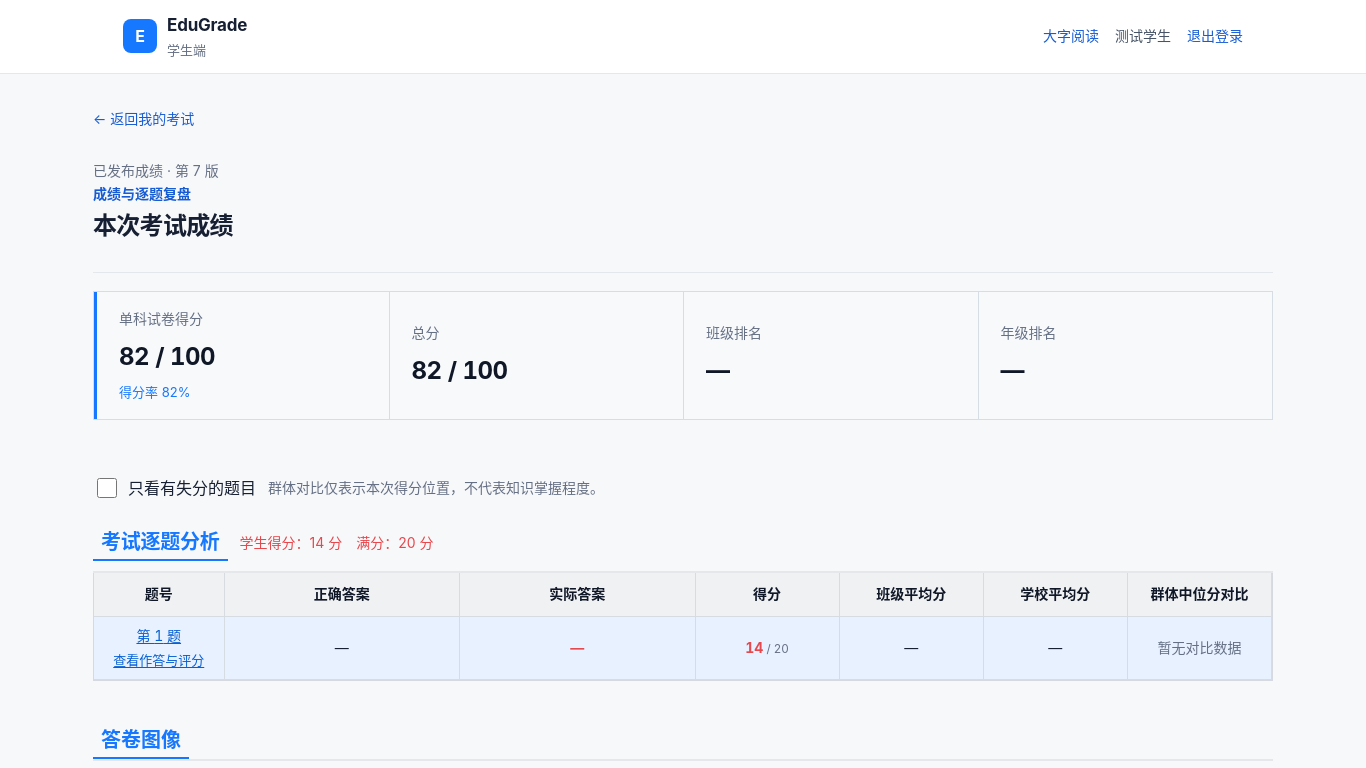
Test: Student Portal released-score boundaries › does not offer a duplicate appeal for the same release and question
expect the element labelled "总分" is shown: met, box [93,292,1273,420]
Click the button with aria-label "14 / 20 分": (159, 648) [104,623,214,673]
(page scrolled)
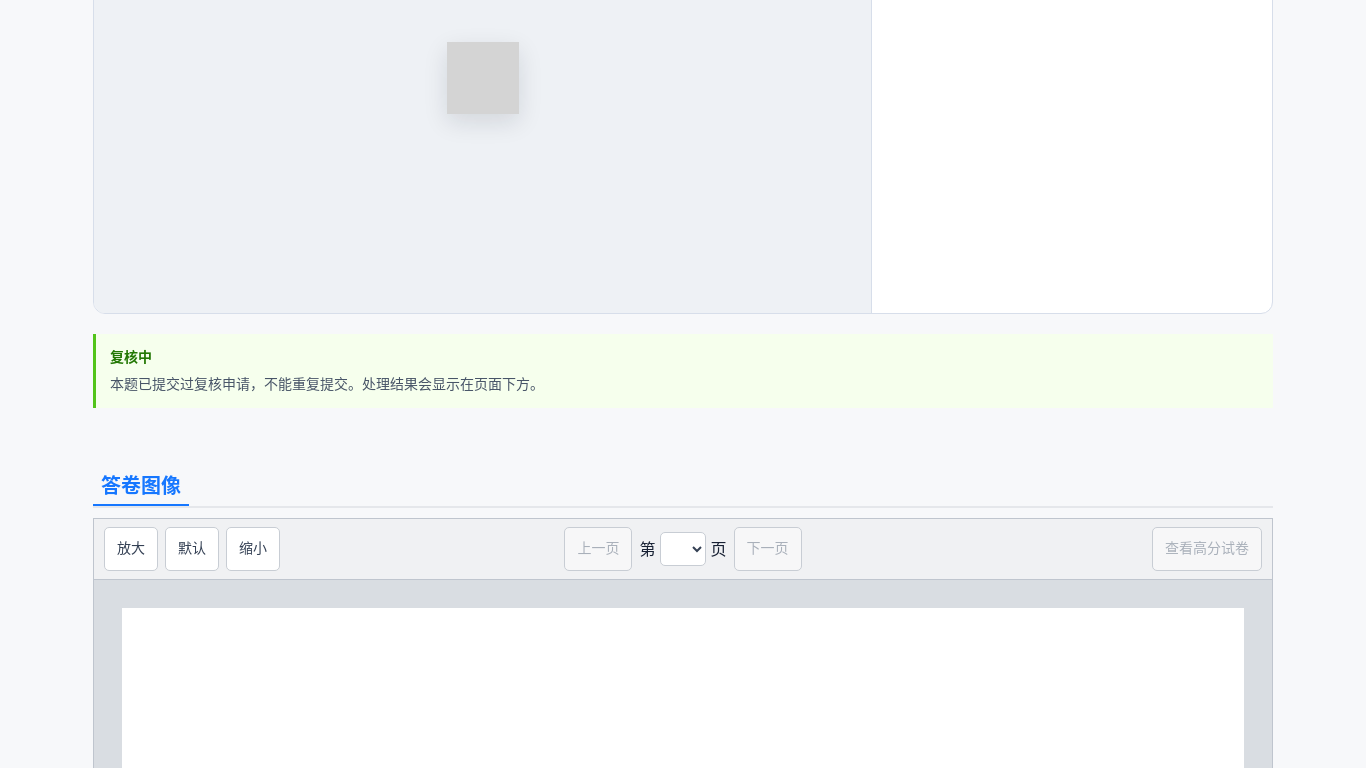
expect the text "本题已提交过复核申请，不能重复提交。处理结果会显示在页面下方。" is shown: met, box [110,375,544,392]
